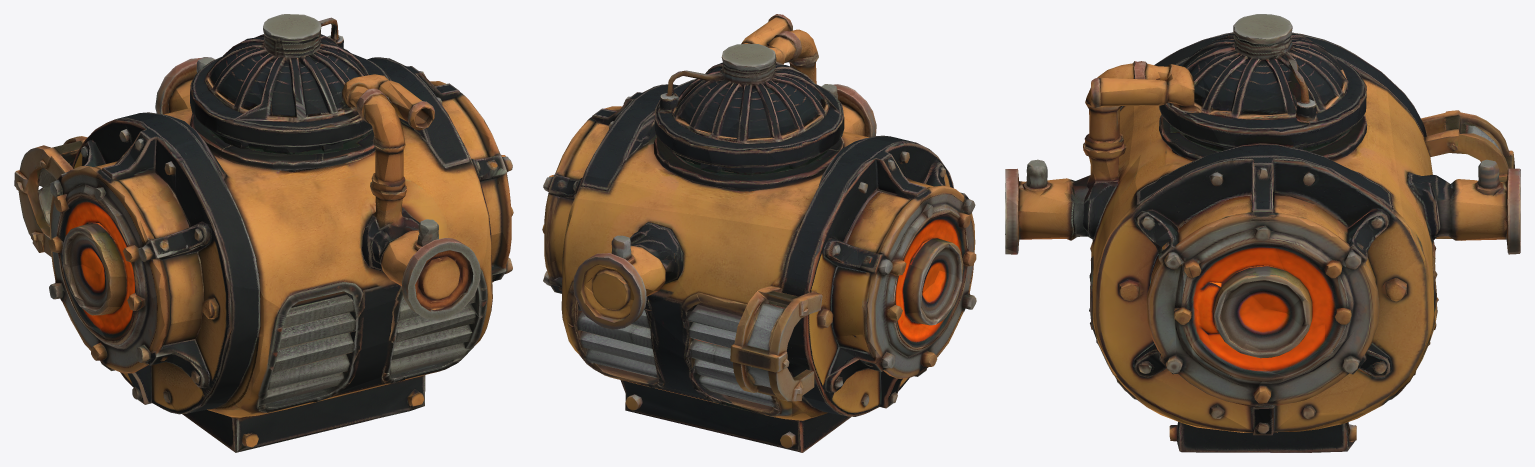
File: steam_vent.glb
3 renders of one model, left to right at view 1: azimuth 30°, elevation 25°; view 2: azimuth 150°, elevation 25°; view 3: azimuth 270°, elevation 25°, orthographic. The views are drawn at different scales.
Bounding box in the file's own units: 1.69 × 1.55 × 1.9.
Materials: 1 (1 with a texture image).
